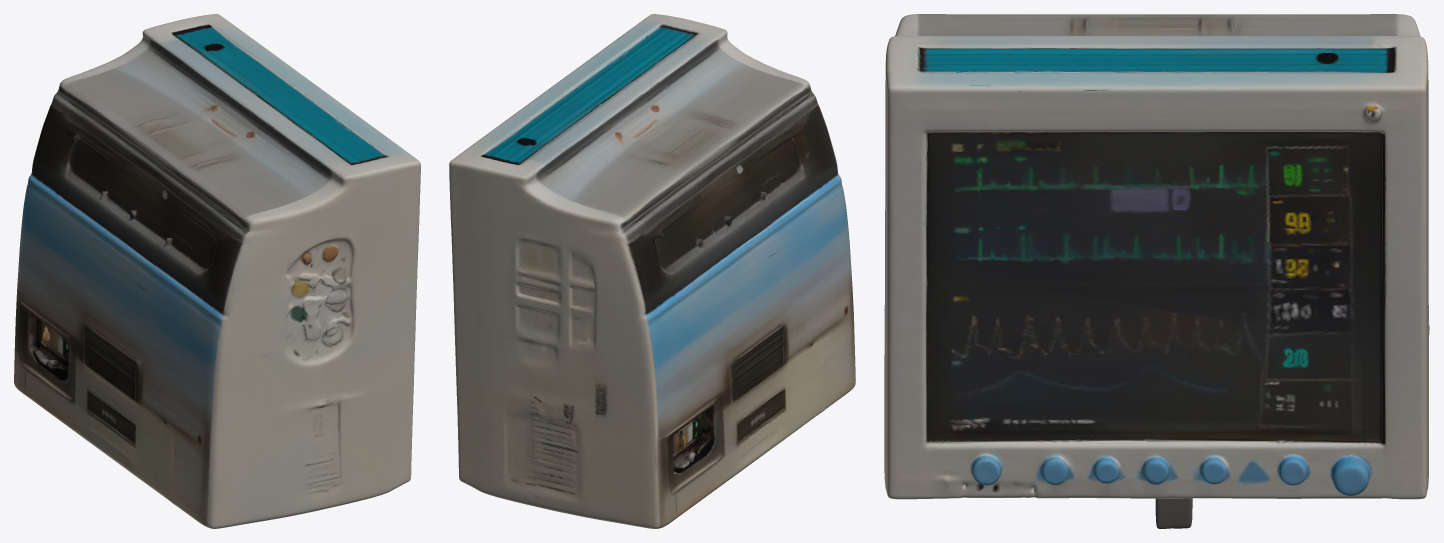
Rendered from Patient_monitor.glb.
3 views of the same model, side by side, from view 1: azimuth 30°, elevation 25°; view 2: azimuth 150°, elevation 25°; view 3: azimuth 270°, elevation 25° (orthographic). The views are drawn at different scales.
Visible parts, largest first — view 1: tripo_node_1c55d51f-c723-4954-97de-d285db385471; view 2: tripo_node_1c55d51f-c723-4954-97de-d285db385471; view 3: tripo_node_1c55d51f-c723-4954-97de-d285db385471.
Boxes of the visible parts, x1,y1,x2,y2 form: tripo_node_1c55d51f-c723-4954-97de-d285db385471: (14, 14, 420, 528); tripo_node_1c55d51f-c723-4954-97de-d285db385471: (449, 14, 855, 528); tripo_node_1c55d51f-c723-4954-97de-d285db385471: (884, 14, 1429, 528).
Bounding box in the file's own units: 0.5513 × 0.9663 × 0.9165.
Materials: 1 (1 with a texture image).
